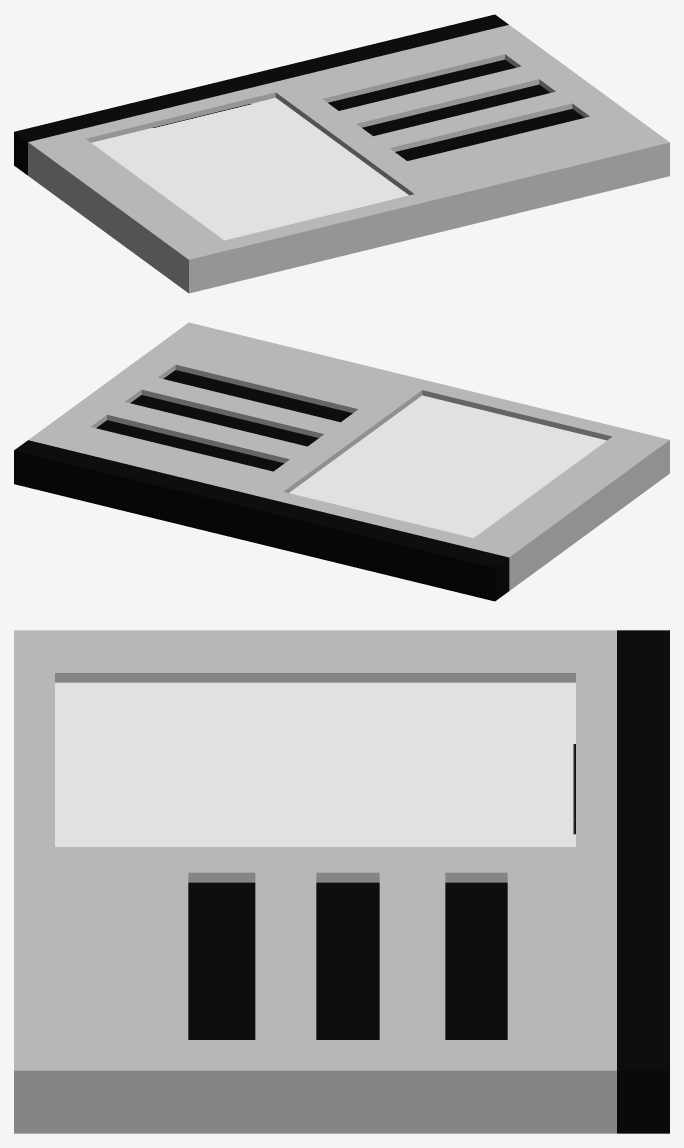
Rendered from badge.fbx.
The picture shows the model from 3 angles, top to bottom: view 1: azimuth 30°, elevation 25°; view 2: azimuth 150°, elevation 25°; view 3: azimuth 270°, elevation 25°; orthographic projection. The views are drawn at different scales.
Visible parts, largest first — view 1: badge; view 2: badge; view 3: badge.
Boxes of the visible parts, bbox=[...] form: badge: bbox=[14, 14, 669, 293]; badge: bbox=[14, 322, 669, 601]; badge: bbox=[14, 630, 669, 1133].
Size of the model in its own units: 163 by 10.88 by 102.
3 materials, 1 textured.
